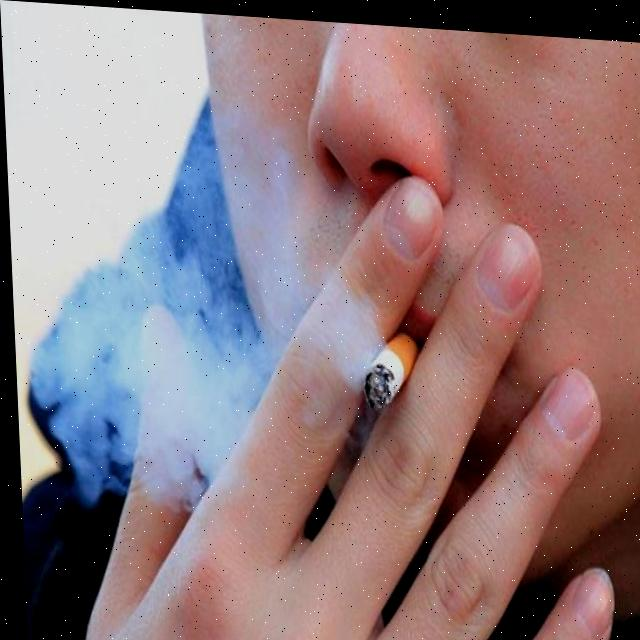cigarette: (354, 328, 419, 409)
